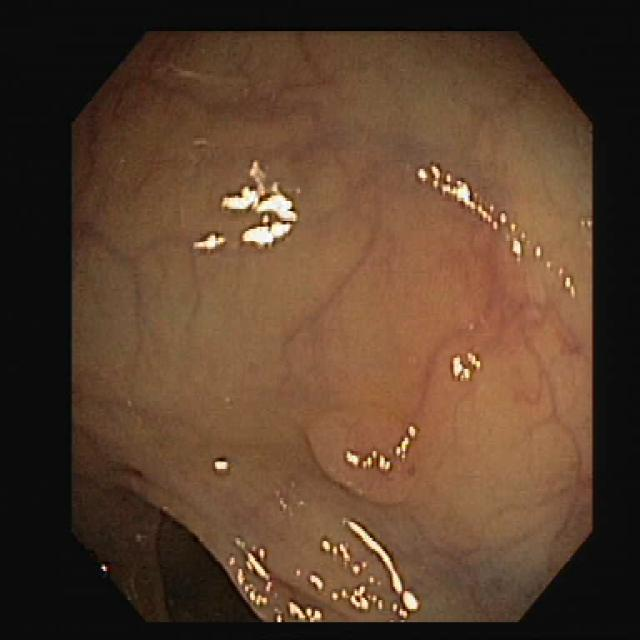tumor: (307, 409, 436, 502)
